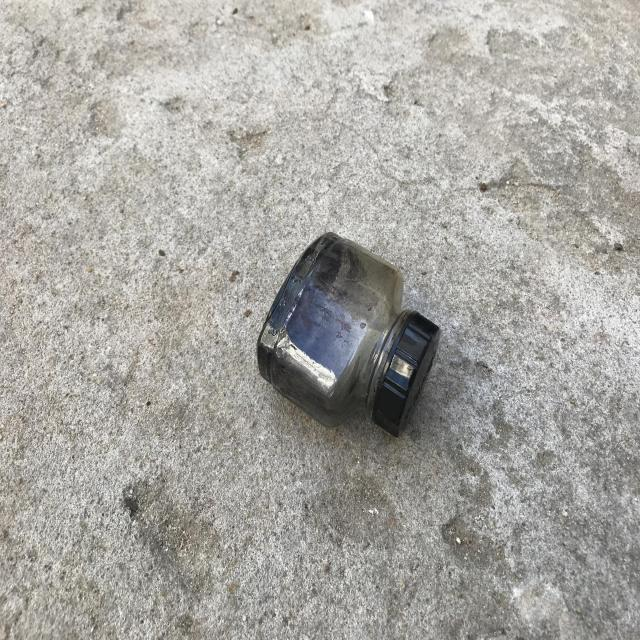glass: (257, 233, 440, 437)
